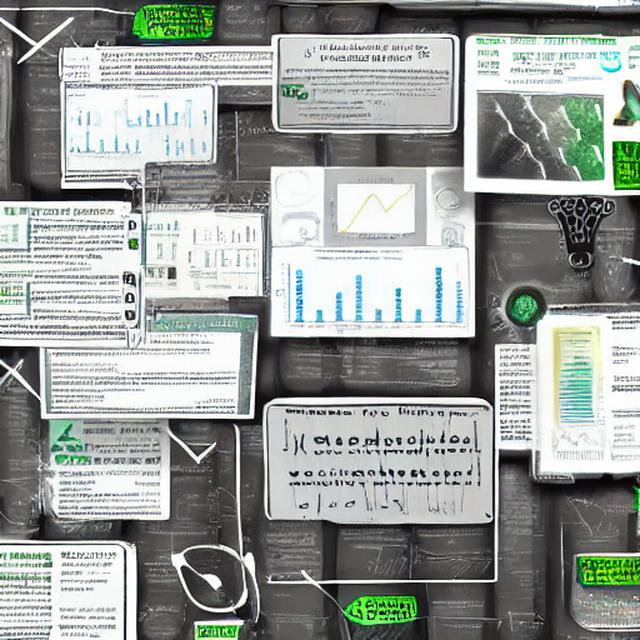Graph: (273, 255, 407, 334), (324, 170, 425, 246), (408, 527, 495, 580), (115, 93, 181, 132), (548, 425, 604, 464), (325, 3, 378, 35), (208, 216, 259, 246)
